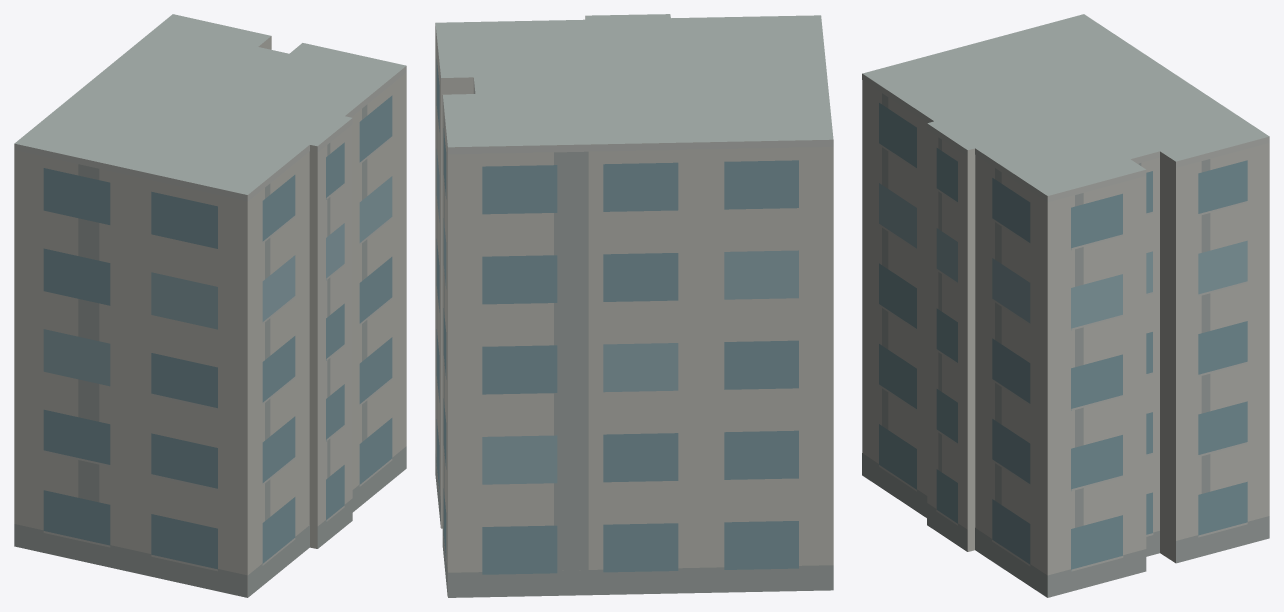
Rendered from residential-1252cd79-8bb9-4c4b-b550-67cc7ca7b3a1.glb.
The picture shows the model from 3 angles, left to right: view 1: azimuth 30°, elevation 25°; view 2: azimuth 150°, elevation 25°; view 3: azimuth 270°, elevation 25°; orthographic projection. The views are drawn at different scales.
Visible parts, largest first — view 1: residential-1252cd79-8bb9-4c4b-b550-67cc7ca7b3a1.tmp; view 2: residential-1252cd79-8bb9-4c4b-b550-67cc7ca7b3a1.tmp; view 3: residential-1252cd79-8bb9-4c4b-b550-67cc7ca7b3a1.tmp.
Part boxes in pixels (x1=…): residential-1252cd79-8bb9-4c4b-b550-67cc7ca7b3a1.tmp: x1=14, y1=14, x2=406, y2=597; residential-1252cd79-8bb9-4c4b-b550-67cc7ca7b3a1.tmp: x1=435, y1=14, x2=833, y2=597; residential-1252cd79-8bb9-4c4b-b550-67cc7ca7b3a1.tmp: x1=862, y1=14, x2=1269, y2=597.
Bounding box in the file's own units: 14.78 × 15.2 × 13.98.
